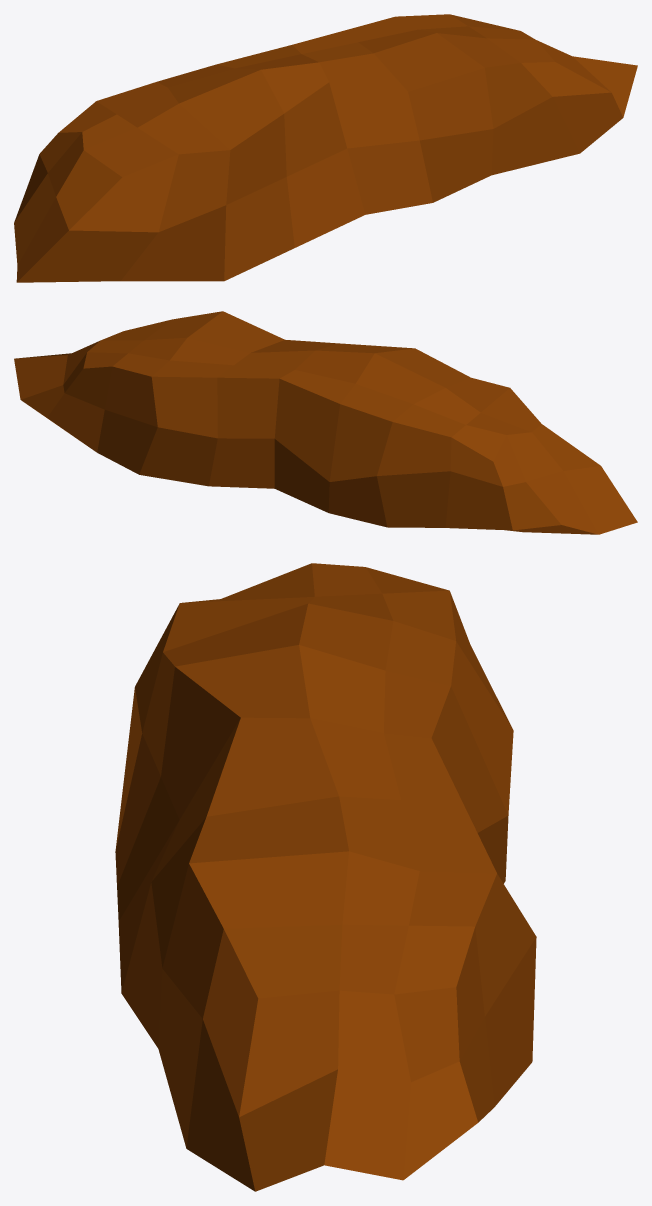
File: Poop.fbx
3 views of the same model, one above another, from view 1: azimuth 30°, elevation 25°; view 2: azimuth 150°, elevation 25°; view 3: azimuth 270°, elevation 25° (orthographic). The views are drawn at different scales.
Visible parts, largest first — view 1: Cube; view 2: Cube; view 3: Cube.
Boxes of the visible parts, box(x1,y1,x2,y2) form: Cube: box(14, 14, 637, 282); Cube: box(14, 311, 637, 534); Cube: box(115, 563, 536, 1191).
Size of the model in its own units: 255 by 61.35 by 77.66.
